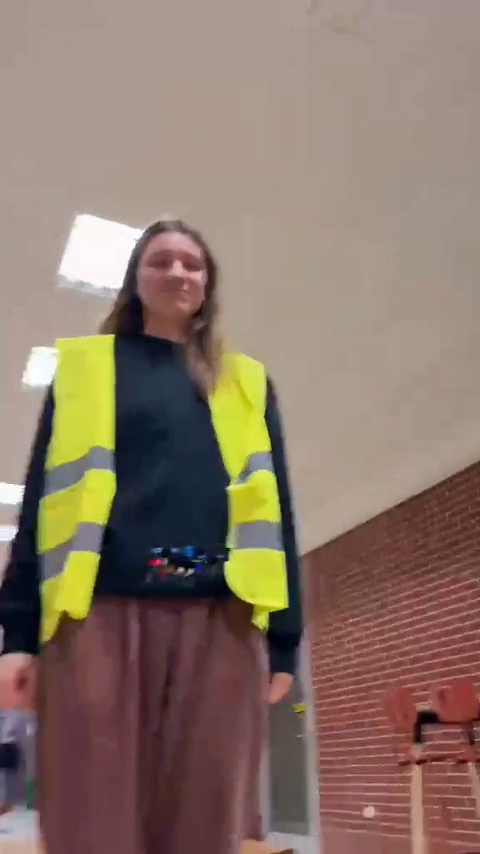drone: (134, 545, 234, 581)
vest: (30, 231, 310, 845)
